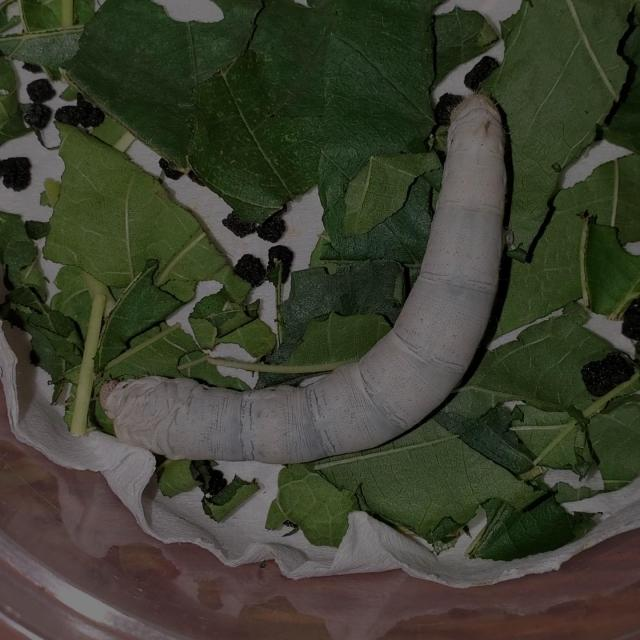Healthy: (74, 67, 520, 482)
